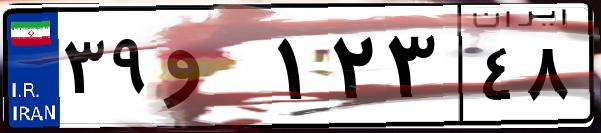1: (270, 28, 330, 110)
2: (330, 28, 385, 110)
3: (385, 28, 445, 110), (57, 26, 110, 100)
4: (475, 38, 525, 113)
8: (525, 38, 570, 115)
9: (110, 28, 158, 98)
و: (158, 20, 270, 120)
